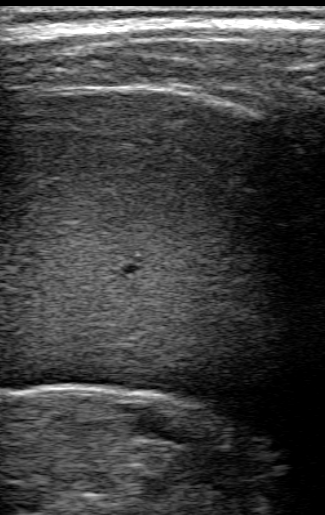irrelevant: (1, 1, 325, 40)
